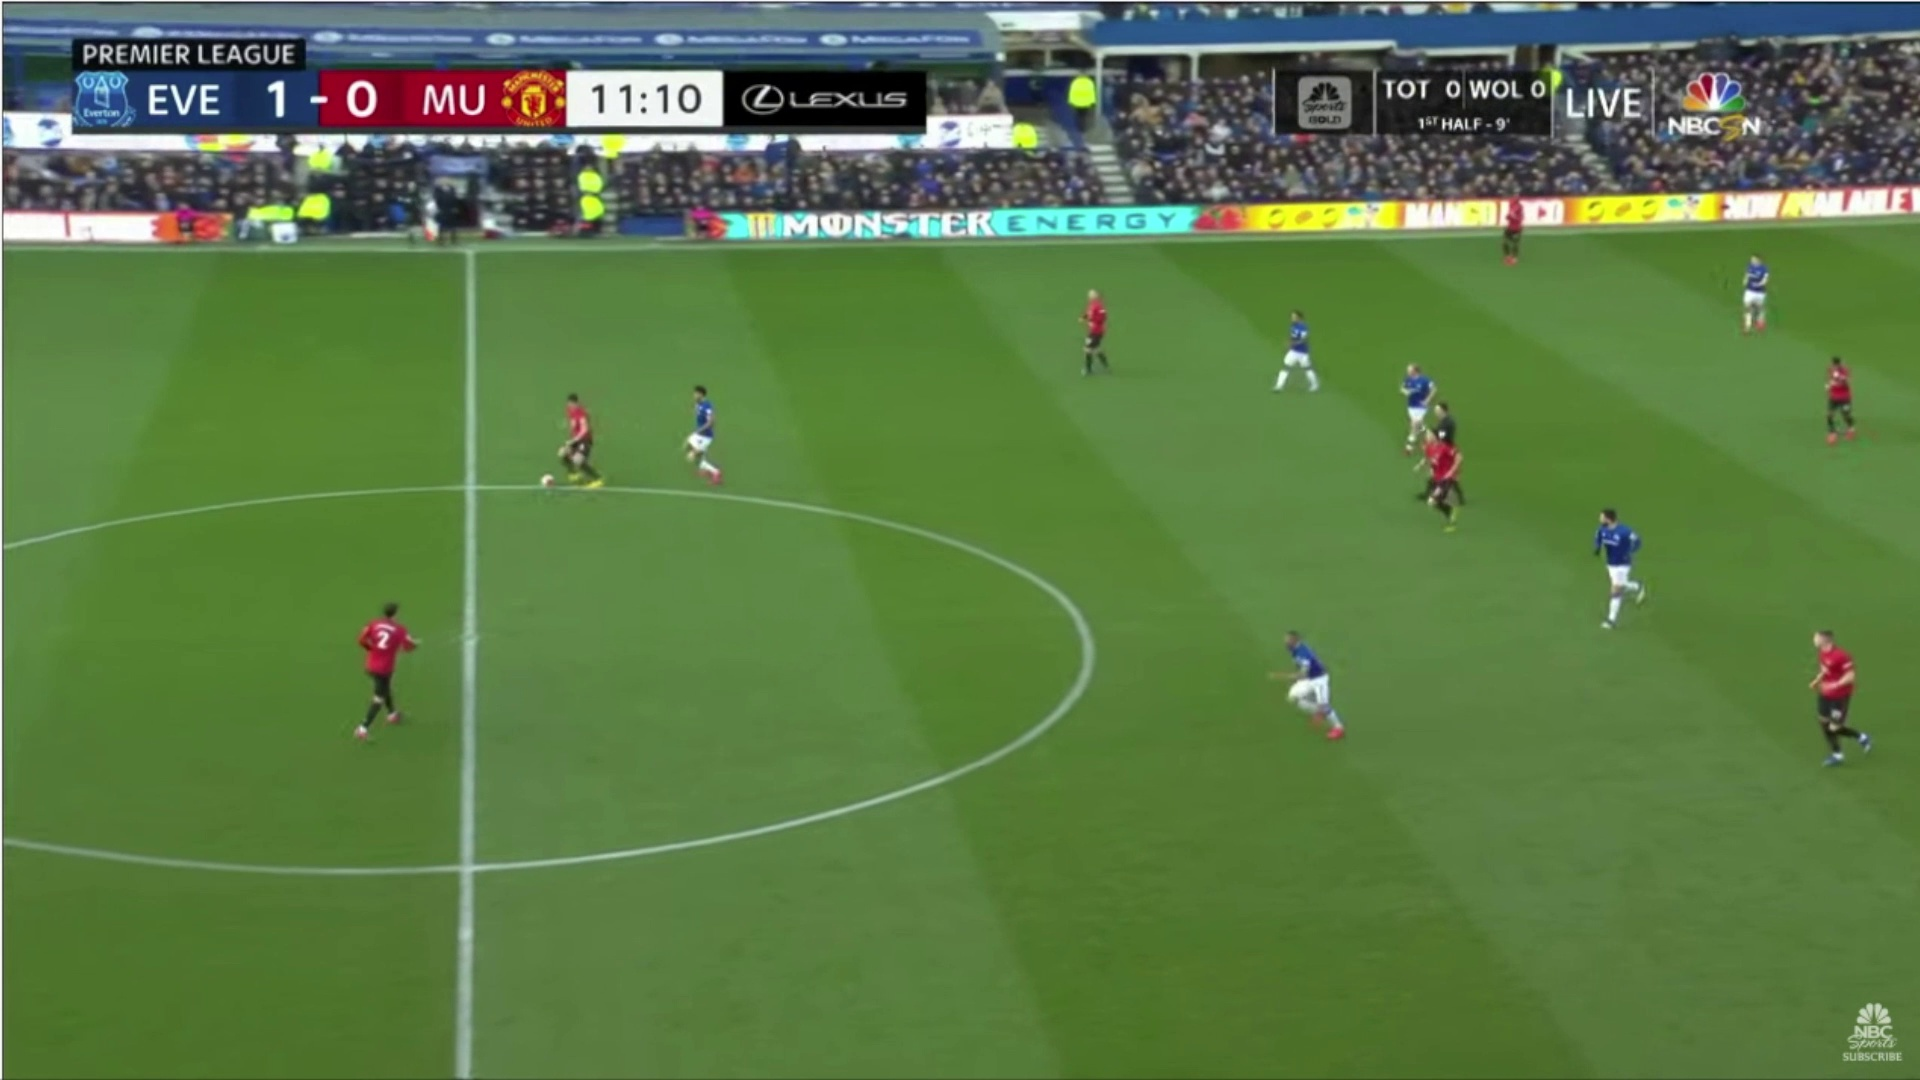ball: (531, 465, 560, 498)
player: (1249, 613, 1368, 760), (1564, 496, 1675, 637), (1791, 615, 1881, 781), (343, 588, 429, 742), (1254, 290, 1343, 410), (1410, 417, 1477, 540), (668, 371, 739, 488), (1060, 267, 1125, 387), (1808, 338, 1872, 454), (549, 383, 608, 500), (1725, 246, 1785, 356), (1395, 344, 1441, 446), (1495, 188, 1541, 265)
